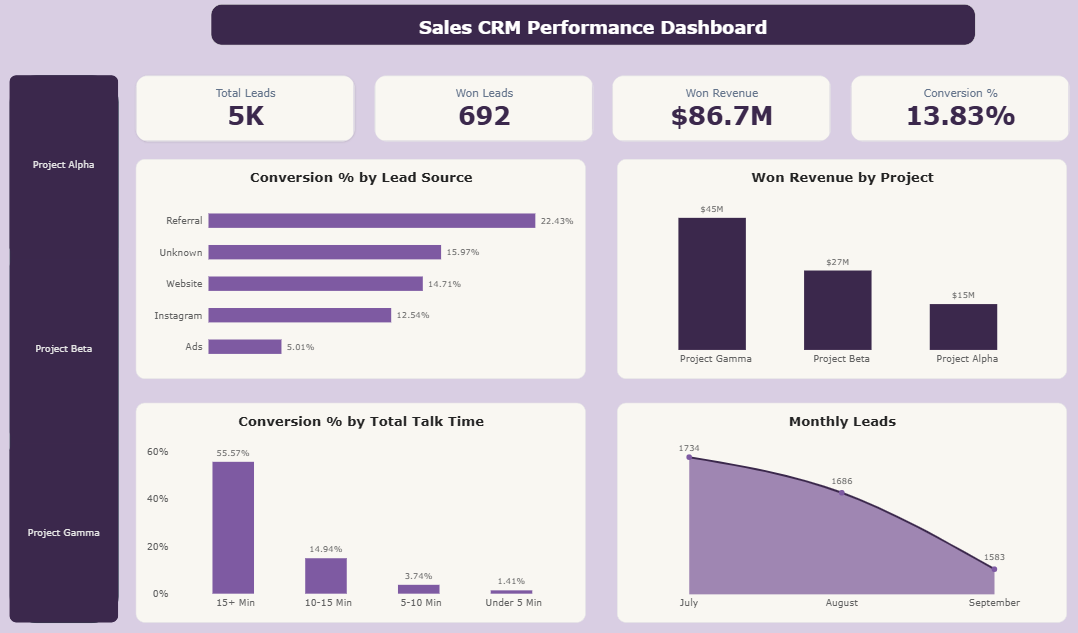

What the dashboard file says about the page in this screenshot:
{"tool":"powerbi","page":{"name":"Page 1","canvas":[1700,2500],"ordinal":0},"visuals":[{"type":"shape","box":[34,115.1,165,827],"z":0},{"type":"cardVisual","fields":{"Data":["public leads_clean.Total Leads"]},"box":[224.5,115.1,330,100],"z":1000},{"type":"cardVisual","fields":{"Data":["public leads_clean.Won Leads"]},"box":[584.3,115.1,330,100],"z":2000},{"type":"cardVisual","fields":{"Data":["public leads_clean.Won Revenue"]},"box":[944,115.1,330,100],"z":3000},{"type":"cardVisual","fields":{"Data":["public leads_clean.Conversion %"]},"box":[1303.8,115.1,330,100],"z":4000},{"type":"clusteredBarChart","title":"Conversion % by Lead Source","fields":{"Category":["public leads_clean.source"],"Y":["public leads_clean.Conversion %"]},"box":[224.5,241.5,679.2,332.1],"z":5000},{"type":"clusteredColumnChart","title":"Won Revenue by Project","fields":{"Category":["public leads_clean.project"],"Y":["public leads_clean.Won Revenue"]},"box":[950.9,241.5,679,332],"z":6000},{"type":"lineChart","title":"Monthly Leads","fields":{"Category":["public leads_clean.created_time.Variation.Date Hierarchy.Month"],"Y":["public leads_clean.Total Leads"]},"box":[950.9,609.4,679,332],"z":7000},{"type":"clusteredColumnChart","title":"Conversion % by Total Talk Time","fields":{"Category":["public leads_clean.Talk Bucket"],"Y":["public leads_clean.Conversion %"]},"box":[224.5,609.4,679,332],"z":8000},{"type":"advancedSlicerVisual","fields":{"Values":["public leads_clean.project"]},"box":[34,115.1,164.2,826.4],"z":9000},{"type":"textbox","box":[337.7,7.5,1154.7,62.3],"z":10000},{"type":"shape","box":[198.1,0,1415.1,79.2],"z":11000}]}

Visuals, with their boxes on the page's 1700x2500 design canvas (x1, y1, x2, y2). These are canvas units, not pixel positions in the 1078x633 screenshot, which may show the page scaled, cropped or inside an application window:
shape: box(34, 115, 199, 942)
cardVisual - public leads_clean.Total Leads: box(224, 115, 554, 215)
cardVisual - public leads_clean.Won Leads: box(584, 115, 914, 215)
cardVisual - public leads_clean.Won Revenue: box(944, 115, 1274, 215)
cardVisual - public leads_clean.Conversion %: box(1304, 115, 1634, 215)
"Conversion % by Lead Source" clusteredBarChart: box(224, 242, 904, 574)
"Won Revenue by Project" clusteredColumnChart: box(951, 242, 1630, 574)
"Monthly Leads" lineChart: box(951, 609, 1630, 941)
"Conversion % by Total Talk Time" clusteredColumnChart: box(224, 609, 904, 941)
advancedSlicerVisual - public leads_clean.project: box(34, 115, 198, 942)
textbox: box(338, 8, 1492, 70)
shape: box(198, 0, 1613, 79)
